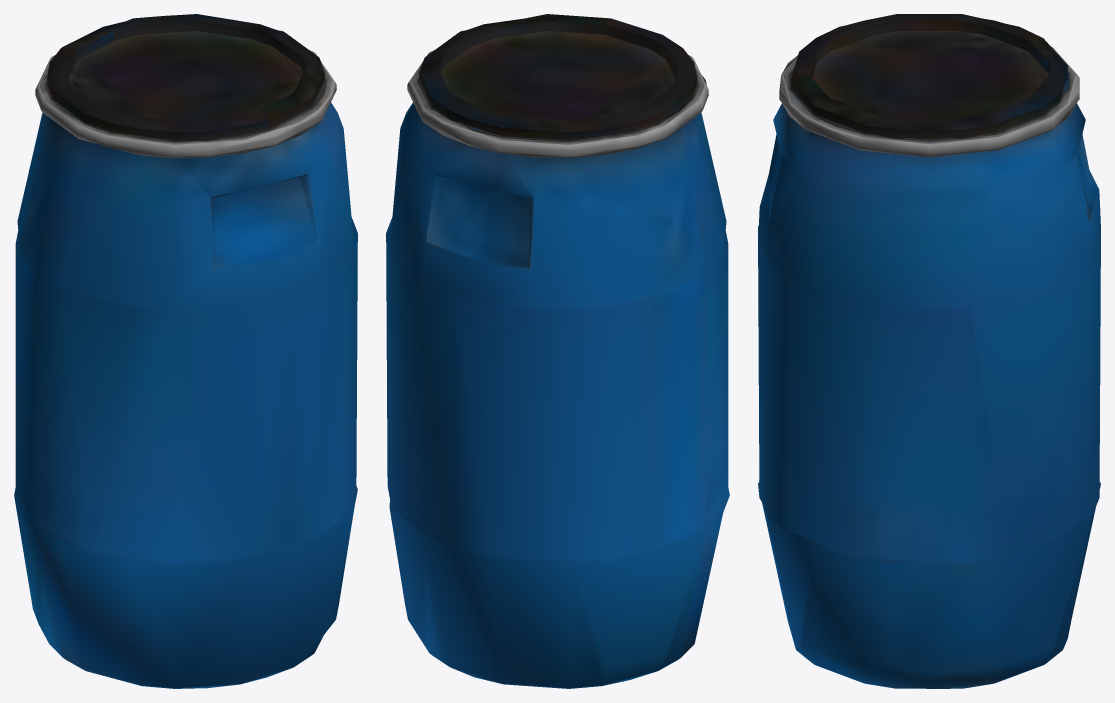
3 renders of one model, left to right at view 1: azimuth 30°, elevation 25°; view 2: azimuth 150°, elevation 25°; view 3: azimuth 270°, elevation 25°, orthographic.
Visible parts, largest first — view 1: Barrel_02; view 2: Barrel_02; view 3: Barrel_02.
Boxes of the visible parts, x1,y1,x2,y2 form: Barrel_02: (14, 14, 357, 688); Barrel_02: (386, 14, 729, 688); Barrel_02: (758, 14, 1100, 688).
Bounding box in the file's own units: 0.4882 × 0.88 × 0.4846.
Materials: 1 (1 with a texture image).
